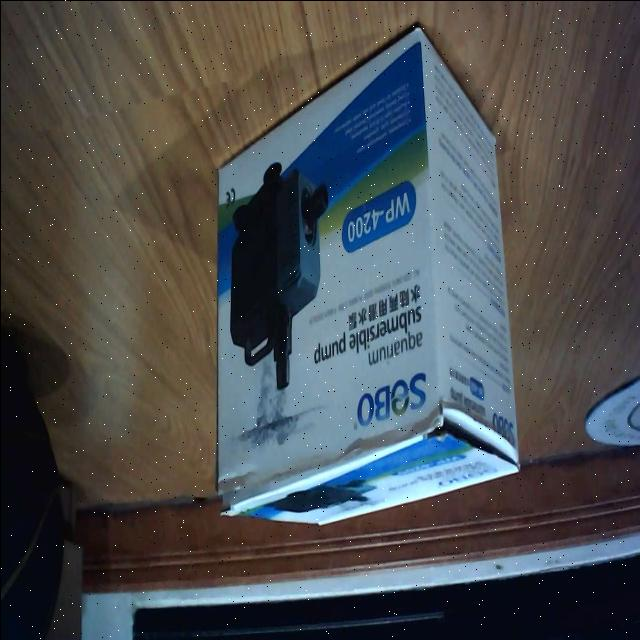SOBO_WP_4200: (196, 19, 526, 545)
